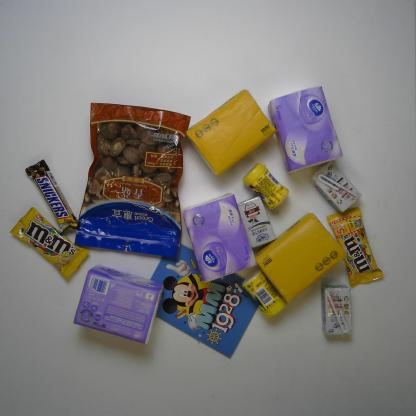Chocolate: (6, 206, 90, 280), (326, 204, 385, 288), (25, 158, 82, 235)
Dried Food: (72, 102, 192, 262)
Gum: (240, 270, 292, 320), (240, 164, 292, 212)
Milk: (308, 155, 363, 217), (238, 195, 278, 250), (320, 283, 351, 340)
Stationery: (139, 236, 269, 359)
Tissue: (252, 212, 348, 303), (185, 87, 279, 179), (71, 262, 165, 346), (180, 191, 259, 285), (268, 82, 345, 178)
